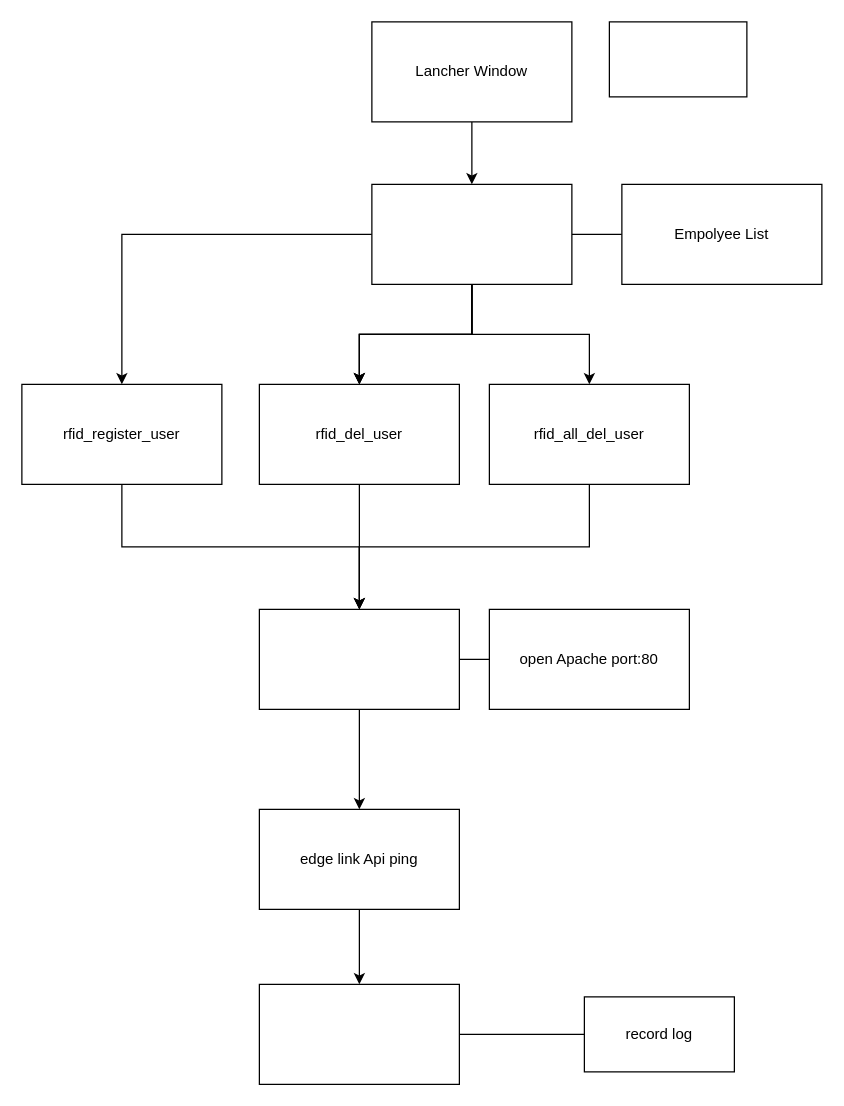
This 844x1106 diagram has some shape labels left out. Each missing label, with the box of its shape:
close window: (258, 983, 459, 1084)
Editer: (371, 183, 572, 284)
IPC: 192.168.0.49 卡機:192.168.0.50 IPC:192.168.10.49 NB: 192.168.10.51: (608, 21, 747, 97)
xampp-control.exe: (258, 608, 459, 709)
